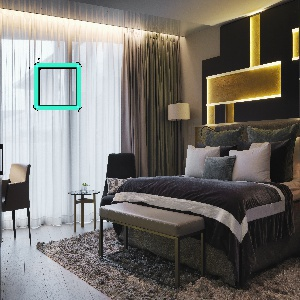square: (32, 61, 82, 112)
